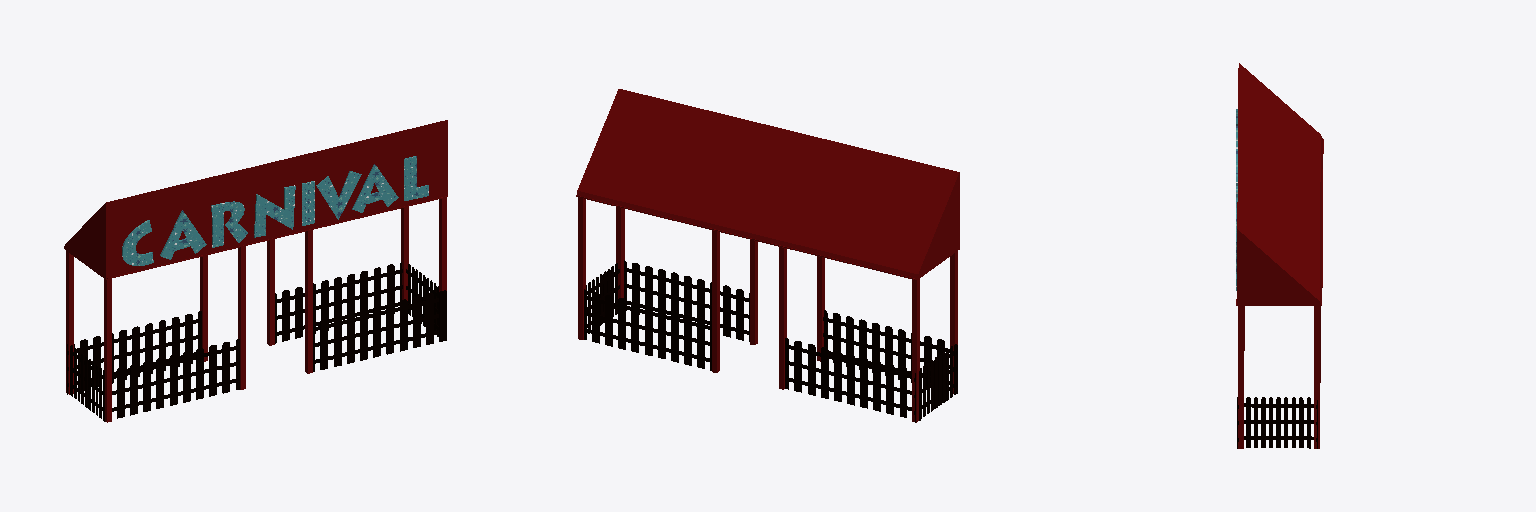
3 renders of one model, left to right at view 1: azimuth 30°, elevation 25°; view 2: azimuth 150°, elevation 25°; view 3: azimuth 270°, elevation 25°, orthographic.
Visible parts, largest first — view 1: Object_2, Object_4, Object_3; view 2: Object_2, Object_4; view 3: Object_2, Object_4.
Part boxes in pixels (bbox=[...]): Object_2: bbox=[64, 120, 447, 422]; Object_4: bbox=[67, 262, 446, 421]; Object_3: bbox=[122, 156, 428, 265]; Object_2: bbox=[576, 89, 959, 422]; Object_4: bbox=[584, 260, 957, 422]; Object_2: bbox=[1236, 63, 1323, 448]; Object_4: bbox=[1237, 397, 1317, 448].
Bounding box in the file's own units: 10.15 × 6.26 × 2.24.
3 materials, 1 textured.